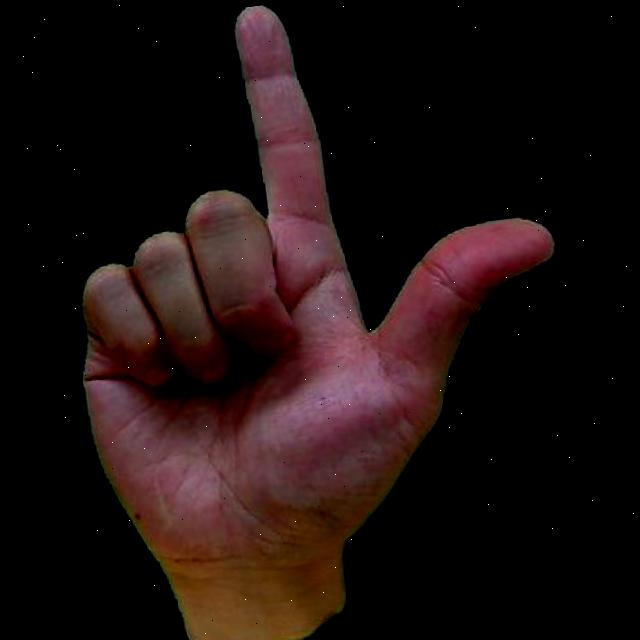l: (25, 0, 598, 640)
